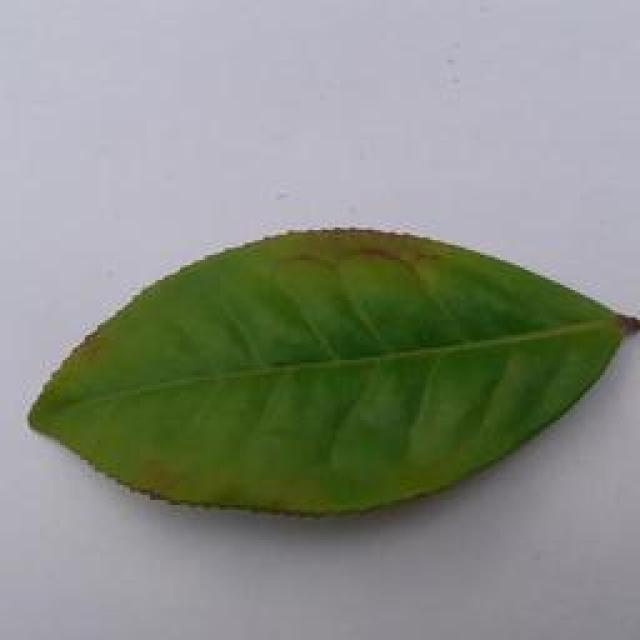Red Leaf Spot: (22, 196, 640, 522)
